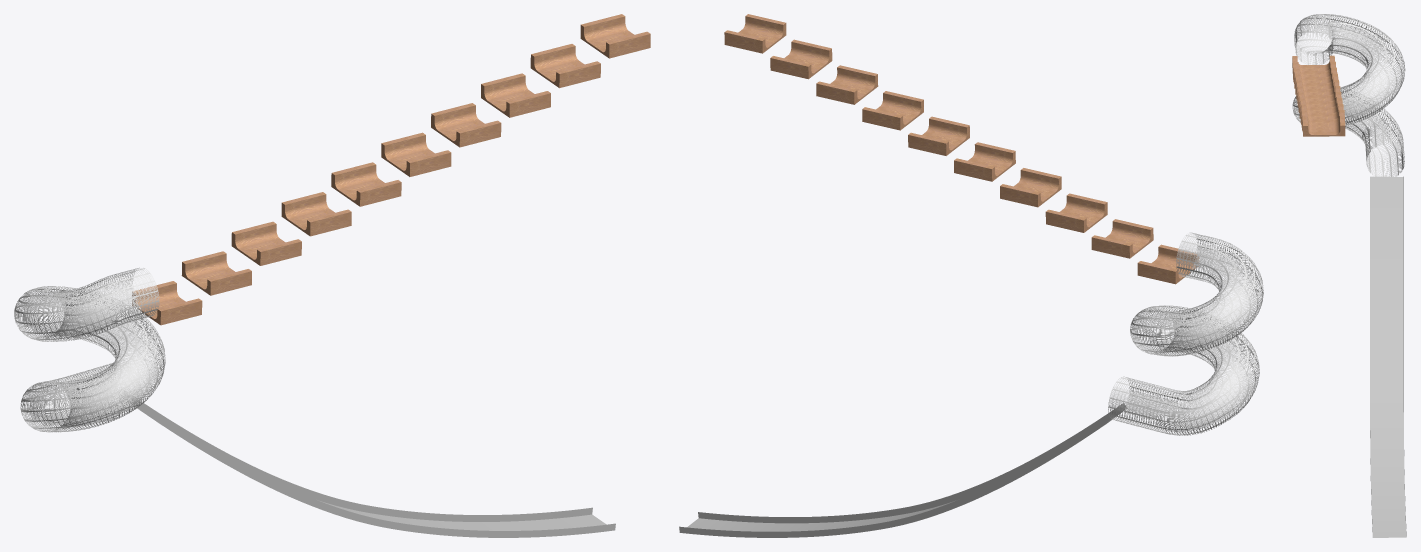
The model's file is Ramp.fbx.
3 views of the same model, side by side, from view 1: azimuth 30°, elevation 25°; view 2: azimuth 150°, elevation 25°; view 3: azimuth 270°, elevation 25° (orthographic). The views are drawn at different scales.
Parts seen in each view (by area): view 1: Plane.004, Plane.009, Plane.006; view 2: Plane.009, Plane.004, Plane.006; view 3: Plane.006, Plane.009, Plane.004.
Boxes of the visible parts, x1,y1,x2,y2 form: Plane.004: (132, 14, 650, 325); Plane.009: (14, 267, 165, 432); Plane.006: (119, 391, 615, 537); Plane.009: (1108, 232, 1263, 435); Plane.004: (724, 14, 1199, 284); Plane.006: (679, 403, 1127, 537); Plane.006: (1370, 176, 1406, 537); Plane.009: (1292, 14, 1405, 176); Plane.004: (1292, 55, 1345, 136).
Bounding box in the file's own units: 40006 × 33500 × 8488.
